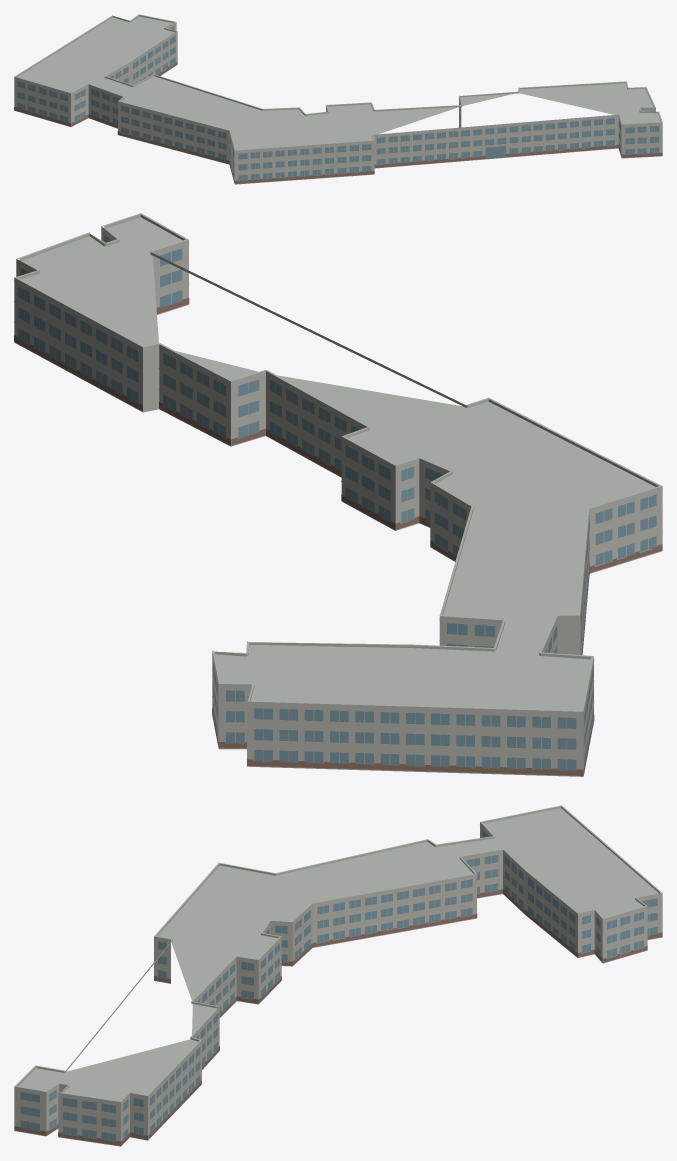
Rendered from public-fce5c89f-5e35-4735-8e6d-5e3b92a04cf3.glb.
3 views of the same model, one above another, from view 1: azimuth 30°, elevation 25°; view 2: azimuth 150°, elevation 25°; view 3: azimuth 270°, elevation 25° (orthographic). The views are drawn at different scales.
Visible parts, largest first — view 1: public-fce5c89f-5e35-4735-8e6d-5e3b92a04cf3; view 2: public-fce5c89f-5e35-4735-8e6d-5e3b92a04cf3; view 3: public-fce5c89f-5e35-4735-8e6d-5e3b92a04cf3.
Part boxes in pixels (x1=…): public-fce5c89f-5e35-4735-8e6d-5e3b92a04cf3: x1=14, y1=14, x2=662, y2=184; public-fce5c89f-5e35-4735-8e6d-5e3b92a04cf3: x1=14, y1=213, x2=662, y2=776; public-fce5c89f-5e35-4735-8e6d-5e3b92a04cf3: x1=14, y1=805, x2=662, y2=1146.
Bounding box in the file's own units: 131 × 9.15 × 121.
